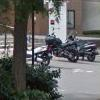Motorcycle: (43, 30, 100, 75)
